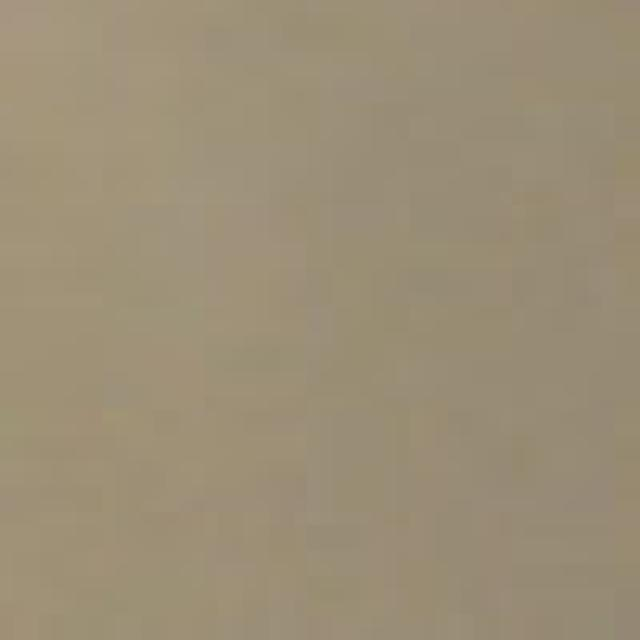fire: (34, 37, 640, 629)
